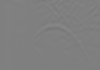hyperbola: (30, 22, 88, 58)
